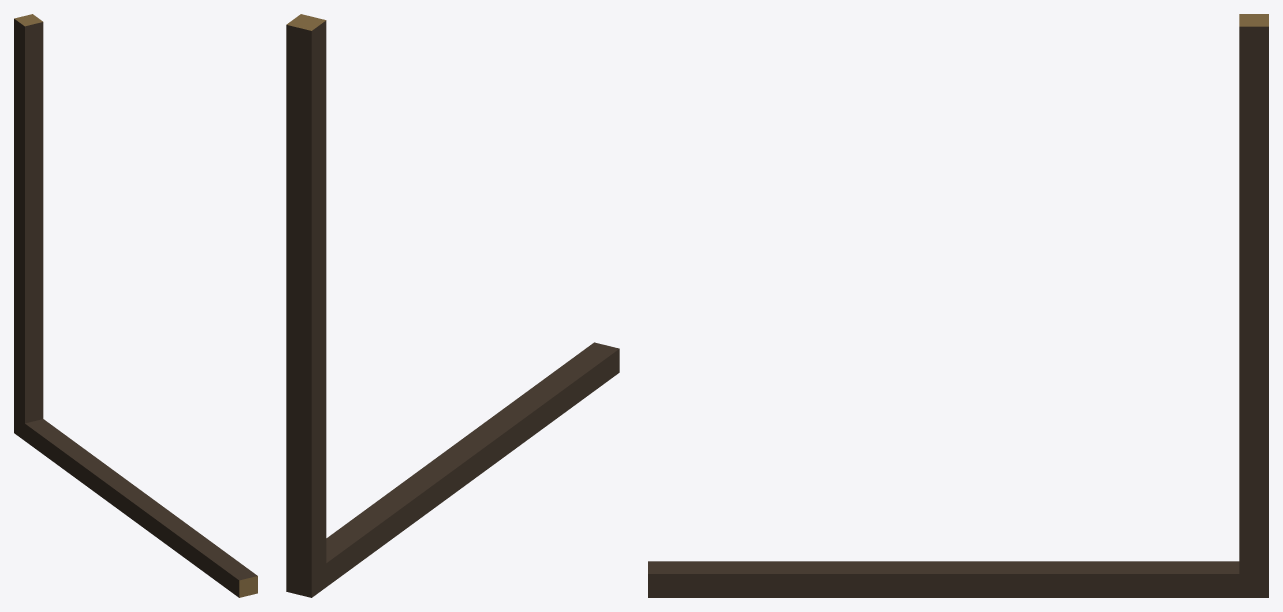
The model's file is Beam_2B_6m.fbx.
3 renders of one model, left to right at view 1: azimuth 30°, elevation 25°; view 2: azimuth 150°, elevation 25°; view 3: azimuth 270°, elevation 25°, orthographic. The views are drawn at different scales.
Visible parts, largest first — view 1: pCube851; view 2: pCube851; view 3: pCube851.
Boxes of the visible parts, <box> form: pCube851: <box>14,14,257,597</box>; pCube851: <box>286,14,619,597</box>; pCube851: <box>648,14,1268,597</box>.
Size of the model in its own units: 30 by 638 by 628.
